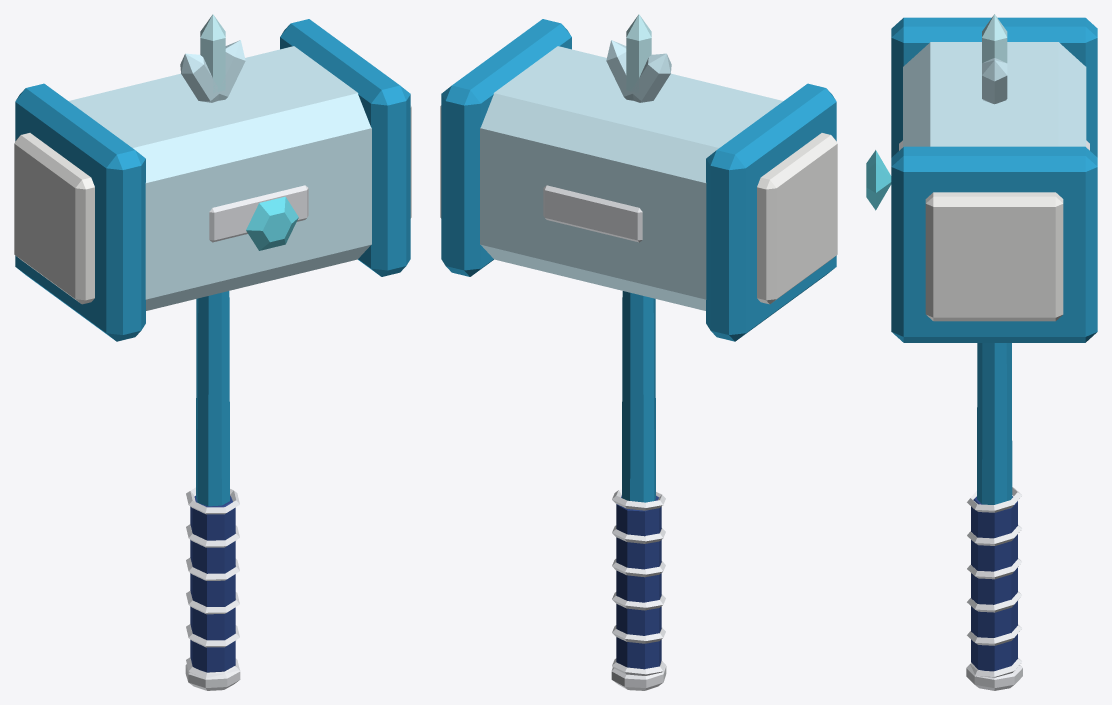
Rendered from FrostHammer.fbx.
3 renders of one model, left to right at view 1: azimuth 30°, elevation 25°; view 2: azimuth 150°, elevation 25°; view 3: azimuth 270°, elevation 25°, orthographic.
Parts seen in each view (by area): view 1: FrostHammer; view 2: FrostHammer; view 3: FrostHammer.
Part boxes in pixels (bbox=[...]): FrostHammer: bbox=[14, 14, 411, 690]; FrostHammer: bbox=[440, 14, 837, 690]; FrostHammer: bbox=[866, 14, 1097, 690].
Bounding box in the file's own units: 2.54 × 4.82 × 1.52.
1 material, 1 textured.
